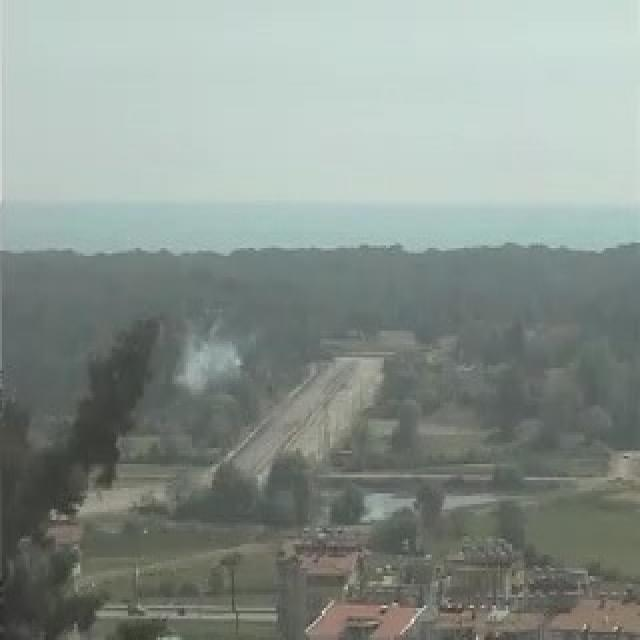smoke: (174, 324, 244, 393)
